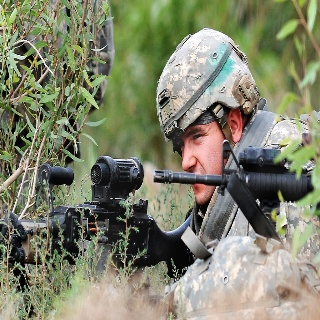rifle: (1, 154, 198, 280)
